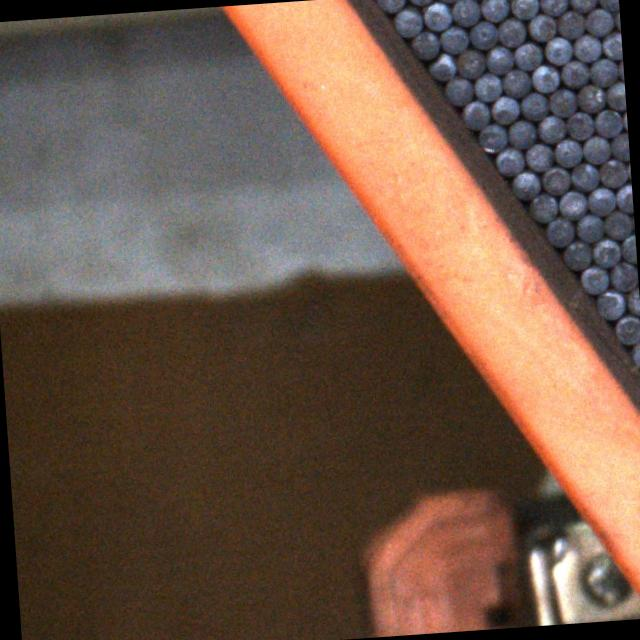tool: (562, 242, 592, 272), (570, 34, 600, 64), (476, 122, 506, 152), (588, 58, 618, 88), (505, 119, 534, 149), (546, 86, 575, 116), (579, 264, 608, 294), (590, 238, 619, 268), (455, 48, 484, 78), (519, 90, 548, 120), (490, 94, 519, 124), (594, 290, 623, 320), (610, 259, 638, 290), (535, 115, 564, 144), (500, 70, 529, 99), (410, 30, 439, 59), (583, 7, 612, 36), (472, 74, 501, 103), (592, 109, 621, 138), (392, 6, 421, 35), (554, 138, 582, 168), (558, 190, 586, 220), (531, 62, 559, 92), (574, 84, 604, 112), (438, 24, 466, 54), (542, 36, 570, 66), (586, 186, 614, 216), (565, 110, 593, 140), (529, 192, 557, 222), (602, 209, 630, 239), (484, 44, 512, 74), (556, 8, 584, 38), (422, 1, 449, 32), (540, 166, 569, 194), (468, 20, 496, 49), (495, 18, 524, 46), (580, 136, 608, 165), (544, 217, 572, 246), (512, 41, 540, 70), (570, 161, 598, 190), (510, 171, 538, 200), (597, 160, 626, 188), (445, 76, 473, 105), (496, 147, 524, 176), (461, 98, 488, 128), (524, 144, 552, 172), (560, 58, 588, 86), (574, 214, 602, 242), (528, 14, 556, 42), (426, 53, 454, 81), (451, 0, 480, 27), (614, 314, 640, 344), (604, 82, 626, 110), (479, 0, 508, 21), (600, 32, 622, 59), (610, 134, 630, 162), (615, 182, 633, 212), (509, 0, 538, 18), (620, 233, 636, 262), (538, 0, 567, 16), (625, 287, 640, 316), (566, 0, 595, 13), (377, 0, 406, 11), (630, 339, 640, 367), (598, 0, 619, 11), (613, 6, 621, 33), (616, 56, 624, 82), (621, 108, 628, 134), (405, 0, 433, 5)
